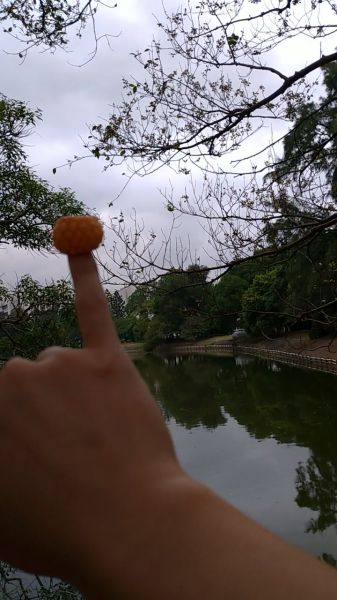eggs: (51, 215, 104, 255)
